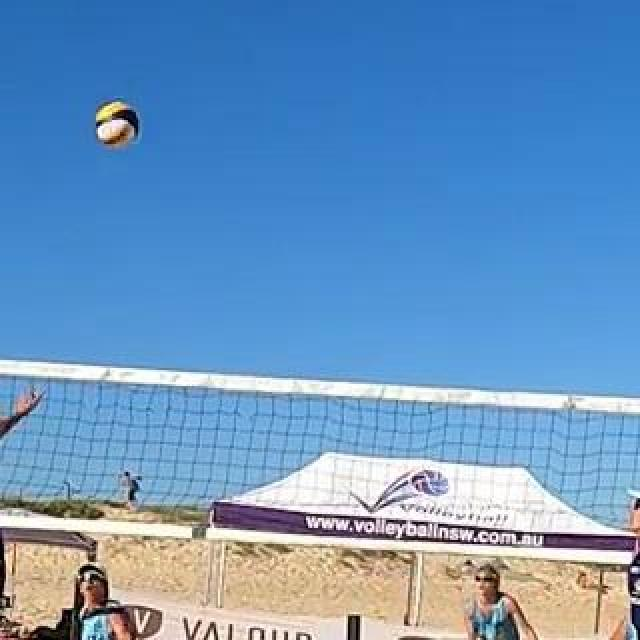volleyball: (96, 104, 138, 148)
